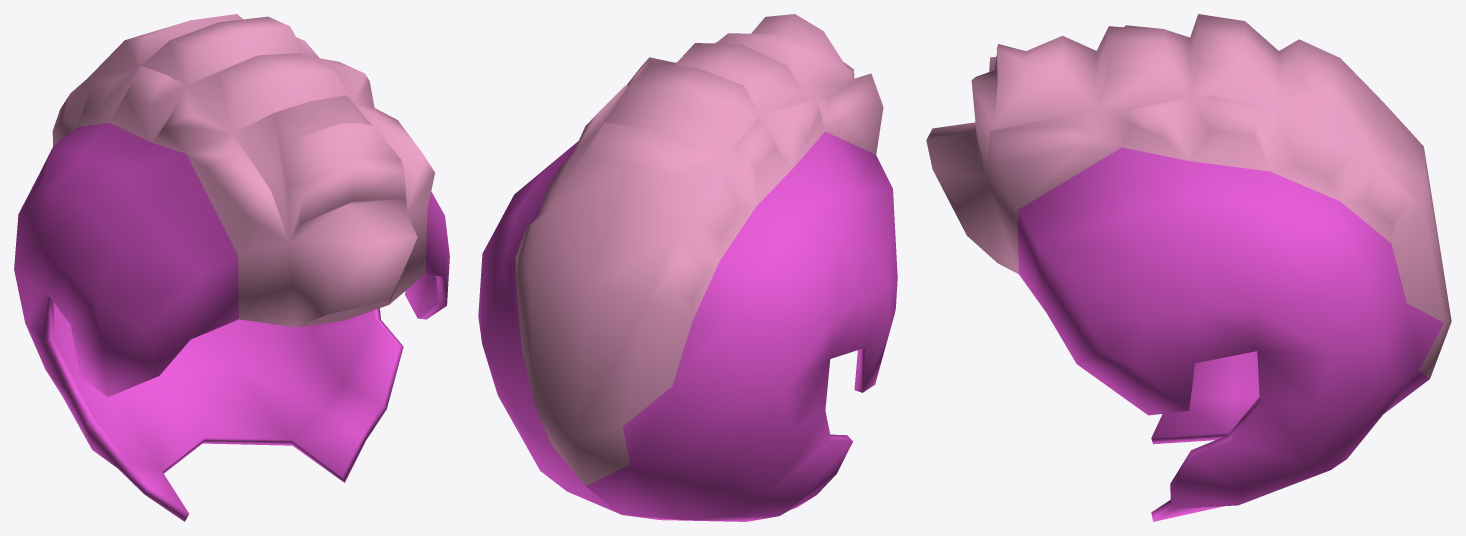
File: character hair 06.fbx
3 renders of one model, left to right at view 1: azimuth 30°, elevation 25°; view 2: azimuth 150°, elevation 25°; view 3: azimuth 270°, elevation 25°, orthographic. The views are drawn at different scales.
Visible parts, largest first — view 1: hair06; view 2: hair06; view 3: hair06.
Boxes of the visible parts, x1,y1,x2,y2 form: hair06: (14, 14, 449, 521); hair06: (478, 14, 897, 521); hair06: (926, 14, 1451, 521).
Bounding box in the file's own units: 0.4058 × 0.5042 × 0.5311.
